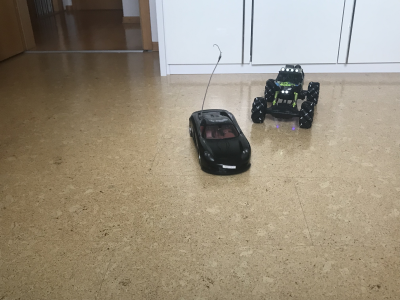remote control car: (249, 58, 323, 130)
